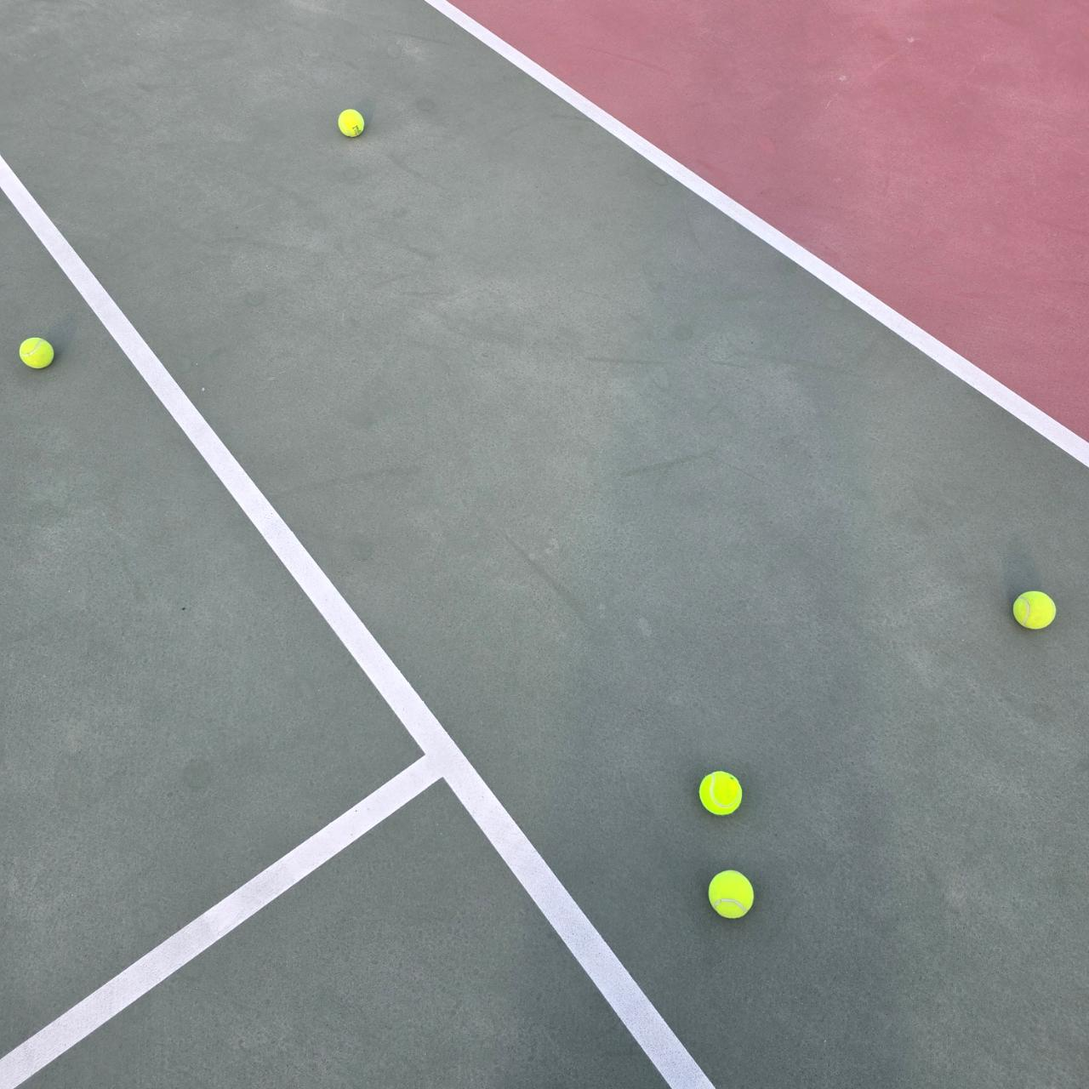tennis-ball: (708, 868, 756, 919), (698, 767, 744, 816), (1012, 588, 1058, 630), (18, 334, 56, 369), (338, 106, 367, 138)
